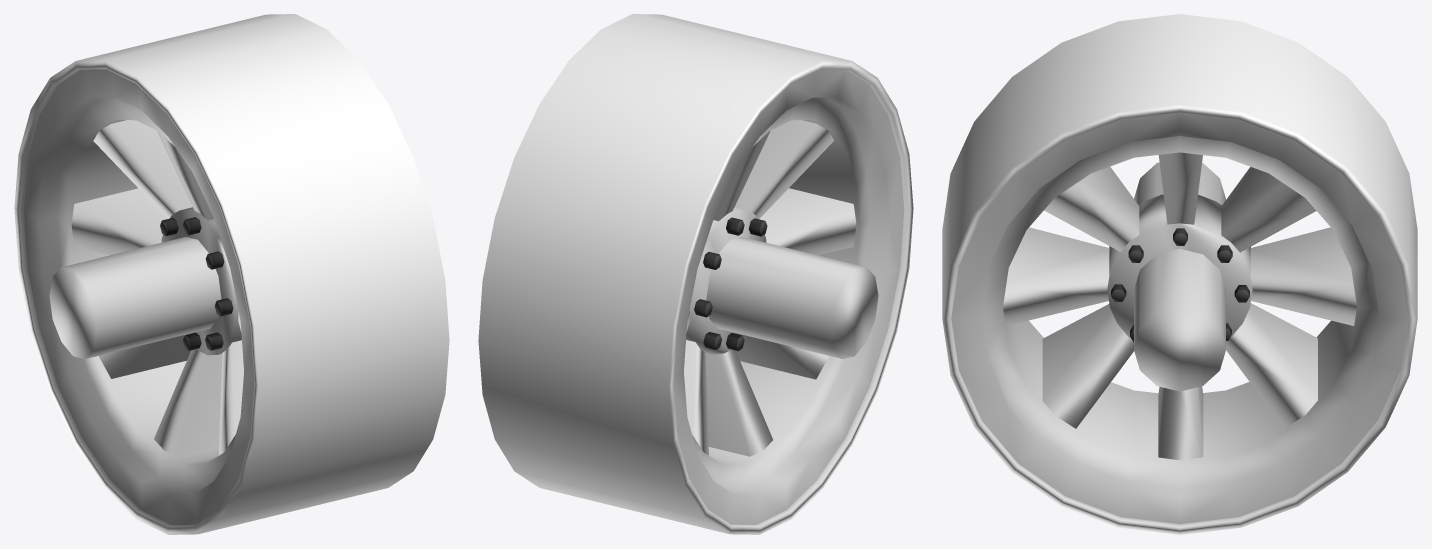
Rendered from toppletower_rolle.fbx.
The picture shows the model from 3 angles, left to right: view 1: azimuth 30°, elevation 25°; view 2: azimuth 150°, elevation 25°; view 3: azimuth 270°, elevation 25°; orthographic projection. The views are drawn at different scales.
Visible parts, largest first — view 1: Mesh; view 2: Mesh; view 3: Mesh.
Part boxes in pixels (x1,y1,x2,y2): Mesh: (14,14,449,534); Mesh: (478,14,913,534); Mesh: (942,14,1417,534).
Size of the model in its own units: 24.91 by 33.23 by 33.23.
